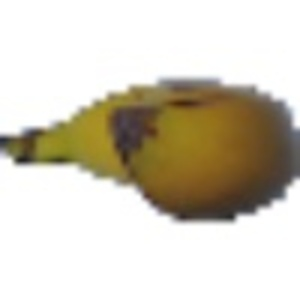banana: (8, 67, 297, 239)
